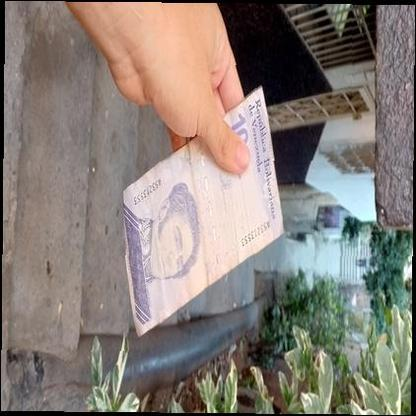ten-front-vef: (121, 86, 284, 336)
